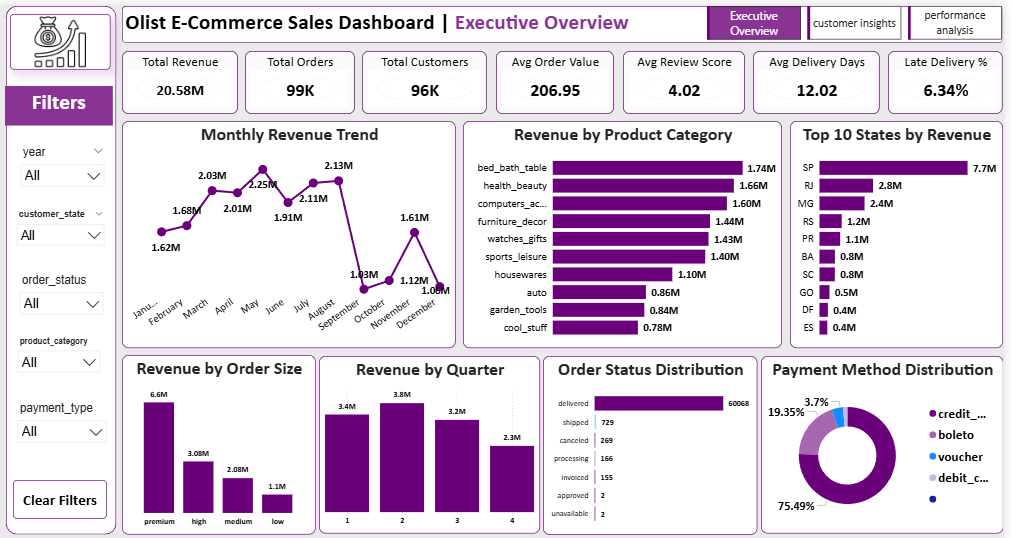

The dashboard page shown, as its layout file describes it:
{"tool":"powerbi","page":{"name":"Executive Overview","canvas":[1500,800],"ordinal":0},"visuals":[{"type":"shape","box":[11.3,0,164.5,788.7],"z":0},{"type":"shape","box":[185.5,0,1314.5,55.1],"z":1000},{"type":"cardVisual","title":"Total Revenue","fields":{"Data":["master_table_final.Total Revenue"]},"box":[184.8,66.7,172.7,93.9],"z":2000},{"type":"cardVisual","title":"Total Orders","fields":{"Data":["master_table_final.Total Orders"]},"box":[368.2,66.7,163.6,93.9],"z":3000},{"type":"cardVisual","title":"Total Customers","fields":{"Data":["master_table_final.Total Customers"]},"box":[543.9,66.7,186.4,93.9],"z":4000},{"type":"cardVisual","title":"Avg Order Value","fields":{"Data":["master_table_final.AOV"]},"box":[743.9,66.7,175.8,93.9],"z":5000},{"type":"cardVisual","title":"Avg Review Score","fields":{"Data":["master_table_final.Avg Review Score"]},"box":[933.3,66.7,181.8,93.9],"z":6000},{"type":"cardVisual","title":"Avg Delivery Days","fields":{"Data":["master_table_final.Avg Delivery Days"]},"box":[1127.3,66.7,189.4,93.9],"z":7000},{"type":"cardVisual","title":"Late Delivery %","fields":{"Data":["master_table_final.Late Delivery %"]},"box":[1328.8,66.7,171.2,93.9],"z":8000},{"type":"lineChart","title":"Monthly Revenue Trend","fields":{"Y":["master_table_final.Total Revenue"],"Category":["master_table_final.purchase_month_name"]},"box":[185.5,171,498.4,338.7],"z":9000},{"type":"clusteredBarChart","title":"Top 10 States by Revenue","fields":{"Category":["master_table_final.customer_state"],"Y":["master_table_final.Total Revenue"]},"box":[1182.3,171,317.7,338.7],"z":10000},{"type":"clusteredBarChart","title":"Revenue by Product Category","fields":{"Category":["master_table_final.product_category_name_english"],"Y":["master_table_final.Total Revenue"]},"box":[693.5,171,475.8,338.7],"z":11000},{"type":"donutChart","title":"Payment Method Distribution","fields":{"Category":["master_table_final.payment_type"],"Y":["master_table_final.Total Orders"]},"box":[1138.3,521.7,361.7,265],"z":12000},{"type":"clusteredBarChart","title":"Order Status Distribution","fields":{"Category":["master_table_final.order_status"],"Y":["master_table_final.Total Orders"]},"box":[813.9,521.7,320,266.7],"z":13000},{"type":"clusteredColumnChart","title":"Revenue by Quarter","fields":{"Category":["master_table_final.purchase_quarter"],"Y":["master_table_final.Total Revenue"]},"box":[479,521.7,330,265],"z":14000},{"type":"clusteredColumnChart","title":"Revenue by Order Size","fields":{"Category":["master_table_final.order_value_category"],"Y":["master_table_final.Total Revenue"]},"box":[185.5,521,288.7,267.7],"z":15000},{"type":"slicer","fields":{"Values":["master_table_final.purchase_year"]},"box":[24.2,203,145.2,71],"z":16000},{"type":"slicer","fields":{"Values":["master_table_final.product_category_name_english"]},"box":[19.4,488.1,143.3,73.1],"z":17000},{"type":"slicer","fields":{"Values":["master_table_final.order_status"]},"box":[22.6,393.5,145.2,71],"z":18000},{"type":"slicer","fields":{"Values":["master_table_final.customer_state"]},"box":[17.9,298.5,150.7,70.1],"z":19000},{"type":"slicer","fields":{"Values":["master_table_final.payment_type"]},"box":[19.4,585.5,153.2,101.6],"z":20000},{"type":"actionButton","box":[22.6,708.1,140.3,58.1],"z":21000},{"type":"textbox","box":[10.6,119.7,160.6,59.1],"z":22000},{"type":"textbox","box":[184.8,0,872.7,54.5],"z":23000},{"type":"image","box":[18.2,12.1,150,83.3],"z":24000},{"type":"pageNavigator","box":[1058.2,0,441.8,50.7],"z":25000}]}

Visuals, with their boxes in screenshot pixels (x1, y1, x2, y2), scaled from the page's 1500x800 canvas onto the 1013x538 screenshot:
shape: [left=8, top=0, right=119, bottom=530]
shape: [left=125, top=0, right=1012, bottom=37]
"Total Revenue" cardVisual: [left=125, top=45, right=241, bottom=108]
"Total Orders" cardVisual: [left=249, top=45, right=359, bottom=108]
"Total Customers" cardVisual: [left=367, top=45, right=493, bottom=108]
"Avg Order Value" cardVisual: [left=502, top=45, right=621, bottom=108]
"Avg Review Score" cardVisual: [left=630, top=45, right=753, bottom=108]
"Avg Delivery Days" cardVisual: [left=761, top=45, right=889, bottom=108]
"Late Delivery %" cardVisual: [left=897, top=45, right=1012, bottom=108]
"Monthly Revenue Trend" lineChart: [left=125, top=115, right=462, bottom=343]
"Top 10 States by Revenue" clusteredBarChart: [left=798, top=115, right=1012, bottom=343]
"Revenue by Product Category" clusteredBarChart: [left=468, top=115, right=790, bottom=343]
"Payment Method Distribution" donutChart: [left=769, top=351, right=1012, bottom=529]
"Order Status Distribution" clusteredBarChart: [left=550, top=351, right=766, bottom=530]
"Revenue by Quarter" clusteredColumnChart: [left=323, top=351, right=546, bottom=529]
"Revenue by Order Size" clusteredColumnChart: [left=125, top=350, right=320, bottom=530]
slicer - master_table_final.purchase_year: [left=16, top=137, right=114, bottom=184]
slicer - master_table_final.product_category_name_english: [left=13, top=328, right=110, bottom=377]
slicer - master_table_final.order_status: [left=15, top=265, right=113, bottom=312]
slicer - master_table_final.customer_state: [left=12, top=201, right=114, bottom=248]
slicer - master_table_final.payment_type: [left=13, top=394, right=117, bottom=462]
actionButton: [left=15, top=476, right=110, bottom=515]
textbox: [left=7, top=80, right=116, bottom=120]
textbox: [left=125, top=0, right=714, bottom=37]
image: [left=12, top=8, right=114, bottom=64]
pageNavigator: [left=715, top=0, right=1012, bottom=34]
